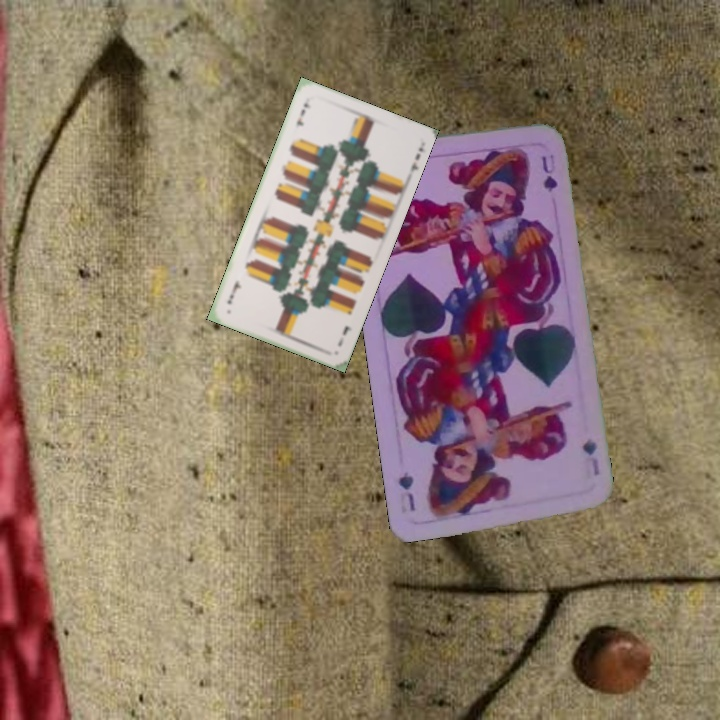E7: (291, 98, 314, 131), (334, 322, 354, 349)
GU: (578, 434, 602, 478)
